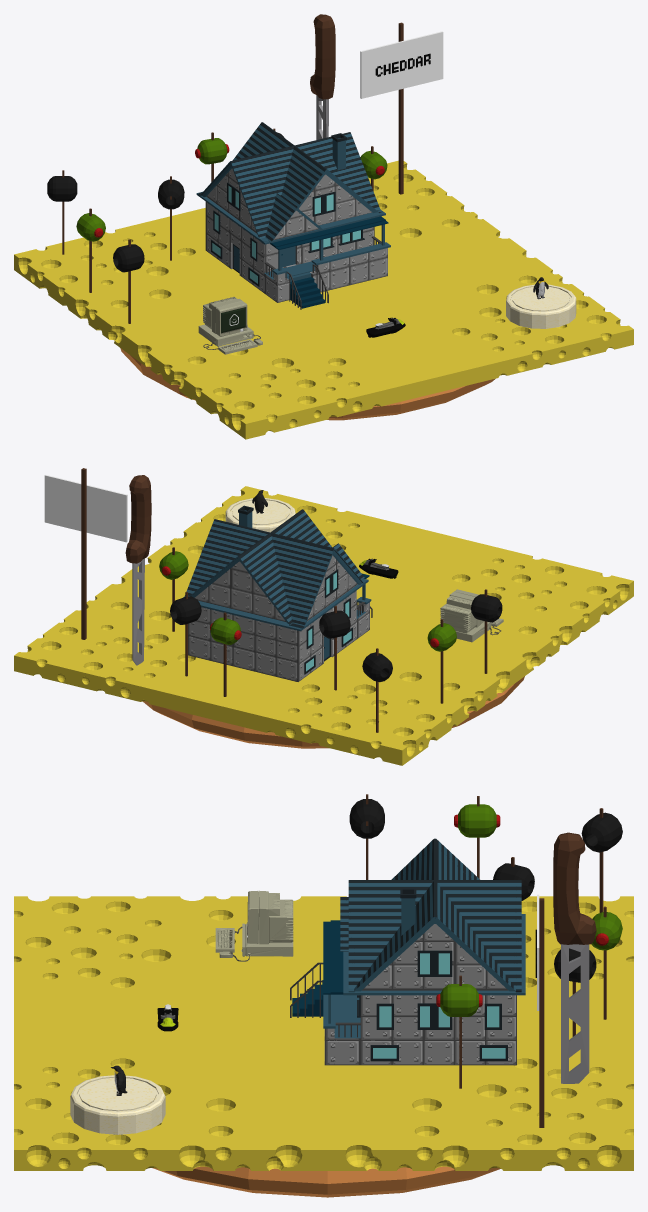
3 views of the same model, one above another, from view 1: azimuth 30°, elevation 25°; view 2: azimuth 150°, elevation 25°; view 3: azimuth 270°, elevation 25° (orthographic). The views are drawn at different scales.
Parts seen in each view (by area): view 1: Cube.022, Cube.078, Cube.023, Cylinder.016, OBJRANDOM_RETRO_PC, Cube.024, UNDERGROUND_PIZZA, Sphere.017, Sphere.016, Sphere.018, Sphere.022, Sphere.020 (+1 smaller); view 2: Cube.022, Cube.078, Cube.023, Cube.024, UNDERGROUND_PIZZA, OBJRANDOM_RETRO_PC, Cylinder.016, Sphere.017, Sphere.022, Sphere.020, Sphere.021, Sphere.018 (+3 smaller); view 3: Cube.022, Cube.078, Cube.024, UNDERGROUND_PIZZA, Cylinder.016, OBJRANDOM_RETRO_PC, Cube.023, Sphere.016, Sphere.019, Sphere.018, Sphere.017, Sphere.022 (+2 smaller).
Boxes of the visible parts, <box> form: Cube.022: <box>14,160,633,439</box>; Cube.078: <box>196,122,390,309</box>; Cube.023: <box>360,22,443,194</box>; Cylinder.016: <box>506,284,576,328</box>; OBJRANDOM_RETRO_PC: <box>198,297,262,354</box>; Cube.024: <box>310,14,335,139</box>; UNDERGROUND_PIZZA: <box>120,348,495,420</box>; Sphere.017: <box>113,239,144,323</box>; Sphere.016: <box>47,170,77,254</box>; Sphere.018: <box>76,208,105,292</box>; Sphere.022: <box>195,132,229,181</box>; Sphere.020: <box>158,176,184,260</box>; Cube.022: <box>14,486,633,765</box>; Cube.078: <box>183,505,372,681</box>; Cube.023: <box>44,468,127,639</box>; Cube.024: <box>125,475,151,665</box>; UNDERGROUND_PIZZA: <box>143,676,524,748</box>; OBJRANDOM_RETRO_PC: <box>440,589,503,642</box>; Cylinder.016: <box>225,498,295,532</box>; Sphere.017: <box>471,589,502,673</box>; Sphere.022: <box>210,612,241,696</box>; Sphere.020: <box>319,606,350,690</box>; Sphere.021: <box>170,592,201,676</box>; Sphere.018: <box>427,619,456,703</box>; Cube.022: <box>14,896,633,1170</box>; Cube.078: <box>290,838,525,1065</box>; Cube.024: <box>553,832,596,1083</box>; UNDERGROUND_PIZZA: <box>152,1166,500,1197</box>; Cylinder.016: <box>70,1075,165,1134</box>; OBJRANDOM_RETRO_PC: <box>215,890,293,961</box>; Cube.023: <box>535,894,544,1127</box>; Sphere.016: <box>581,808,622,912</box>; Sphere.019: <box>436,975,482,1088</box>; Sphere.018: <box>454,796,500,878</box>; Sphere.017: <box>349,794,384,879</box>; Sphere.022: <box>591,906,622,1019</box>.
Size of the model in its own units: 3917 by 2219 by 4000.
35 materials, 5 textured.
